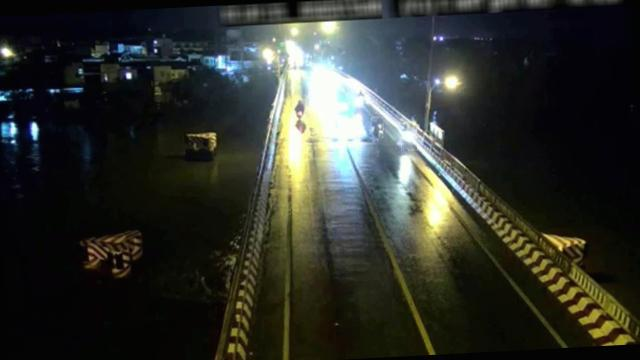Bike: (398, 122, 416, 151), (369, 116, 384, 138), (294, 100, 307, 121), (356, 89, 365, 104)
